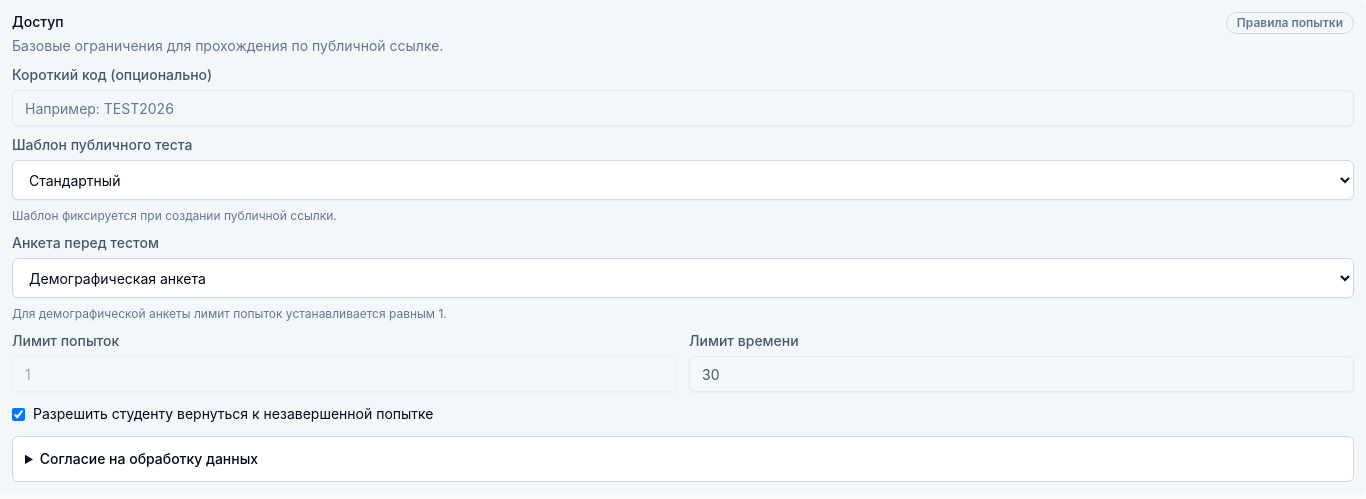
it: PublicLinkAccessSettingsSection › locks the attempt limit to 1 for the demographic profile and restores it otherwise
Expected: the number field labelled "Лимит попыток" holds "1", [12,356,677,392]
Expected: the number field labelled "Лимит попыток" is disabled, [12,356,677,392]
Step 1. Select "Учебные данные + демографическая анкета" in the dropdown labelled "Анкета перед тестом" → [683, 278], box [12,258,1354,298]
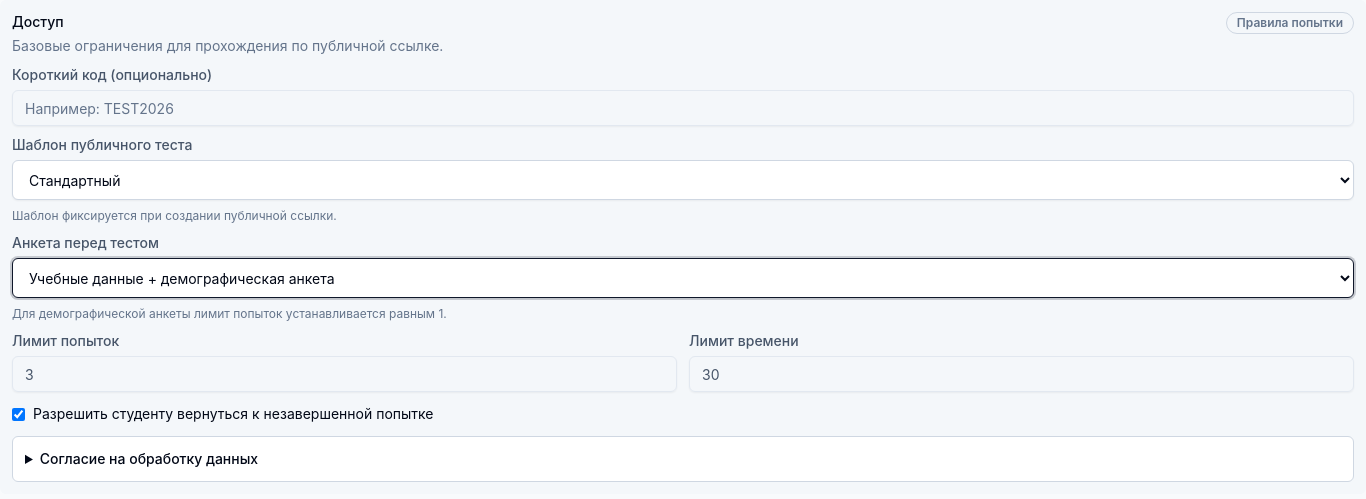
Result: the number field labelled "Лимит попыток" is enabled at [12,356,677,392]
Result: the number field labelled "Лимит попыток" holds "3" at [12,356,677,392]
